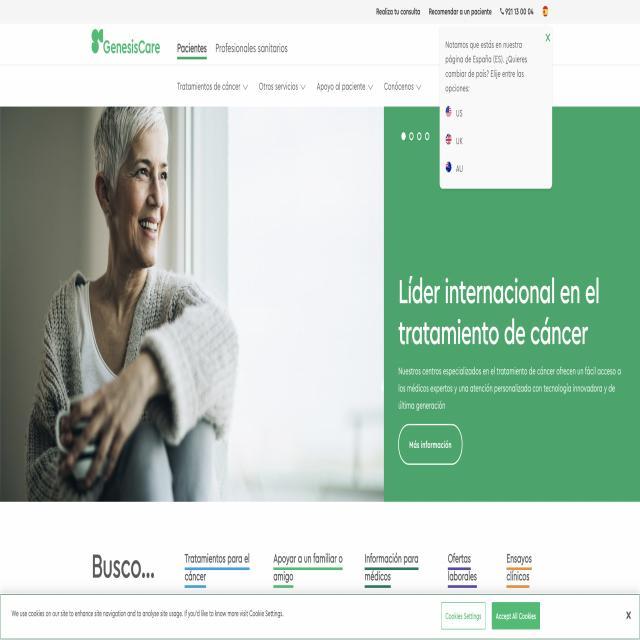Logo: (93, 26, 161, 58)
Navigation: (175, 74, 432, 98)
